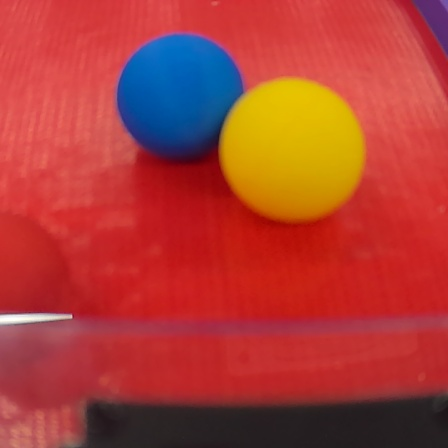blue: (119, 30, 244, 165)
red: (0, 206, 72, 352)
red_aim: (2, 2, 448, 448)
yellow: (219, 75, 367, 228)
